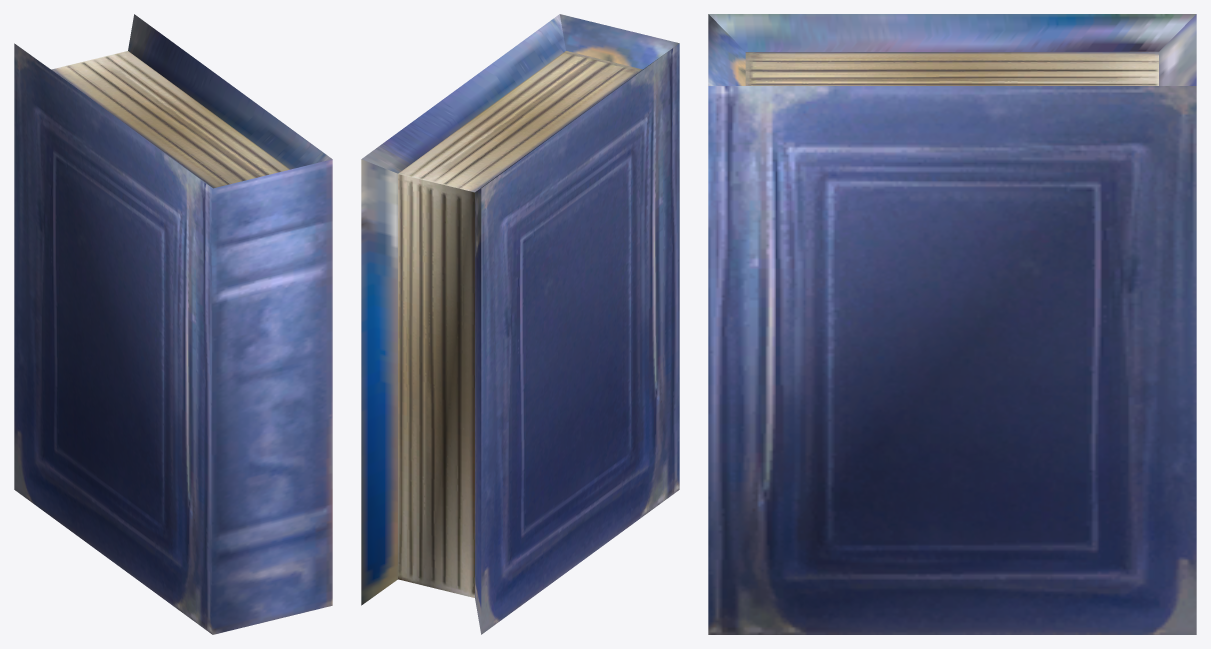
Rendered from booksmall01.obj.
3 renders of one model, left to right at view 1: azimuth 30°, elevation 25°; view 2: azimuth 150°, elevation 25°; view 3: azimuth 270°, elevation 25°, orthographic. The views are drawn at different scales.
Parts seen in each view (by area): view 1: booksmall01; view 2: booksmall01; view 3: booksmall01.
Part boxes in pixels (left/top/right/bottom): booksmall01: left=14, top=14, right=332, bottom=634; booksmall01: left=361, top=14, right=679, bottom=634; booksmall01: left=708, top=14, right=1196, bottom=634.
Bounding box in the file's own units: 0.1179 × 0.4195 × 0.338.
1 material, 1 textured.
